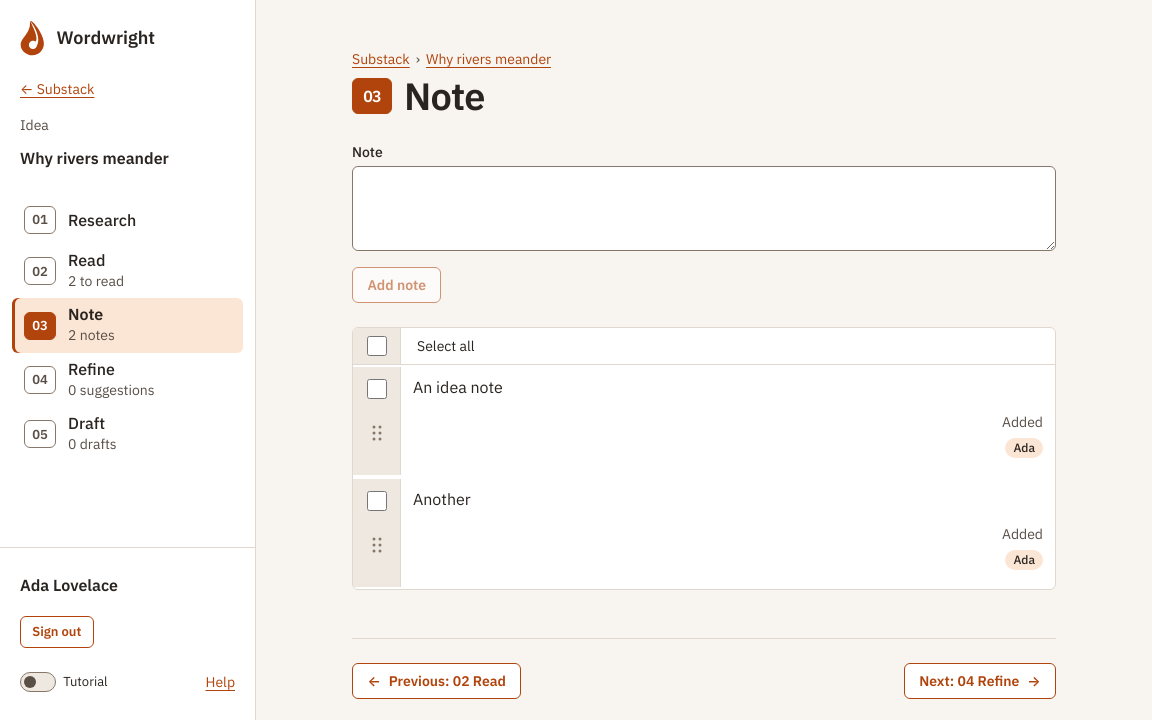
Test: reading page › moves notes from an idea to the publication, another idea or a new idea
Click the checkbox named "Select note “An idea note" at (376, 389), box [366,379,386,399]
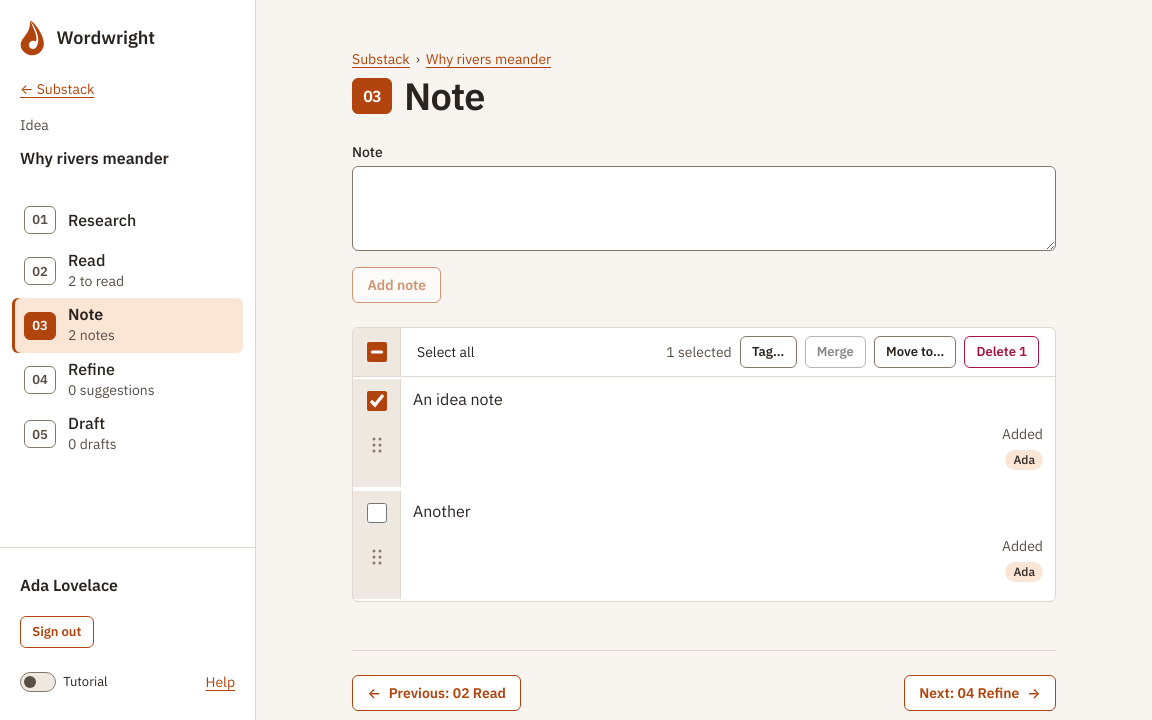
Click the button "Move to…" at (915, 352), box [874,336,956,368]
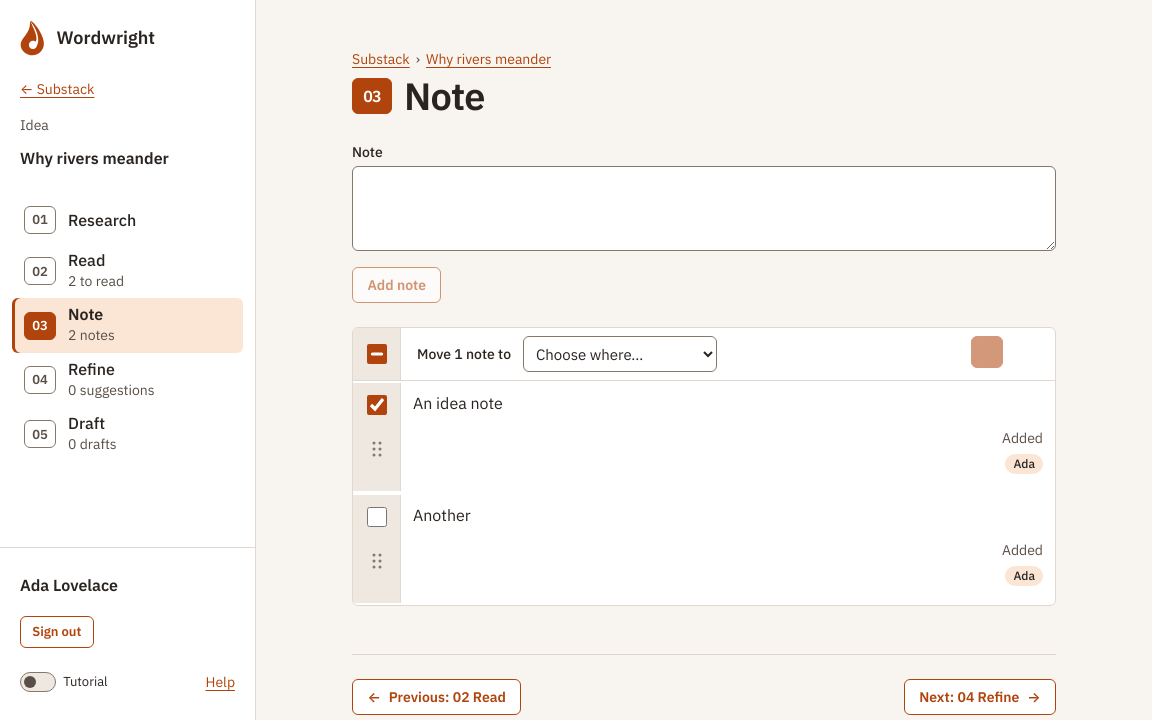
Select "The publication’s notes" in the dropdown labelled "Move 1 note to" at (620, 354), box [523,336,717,372]
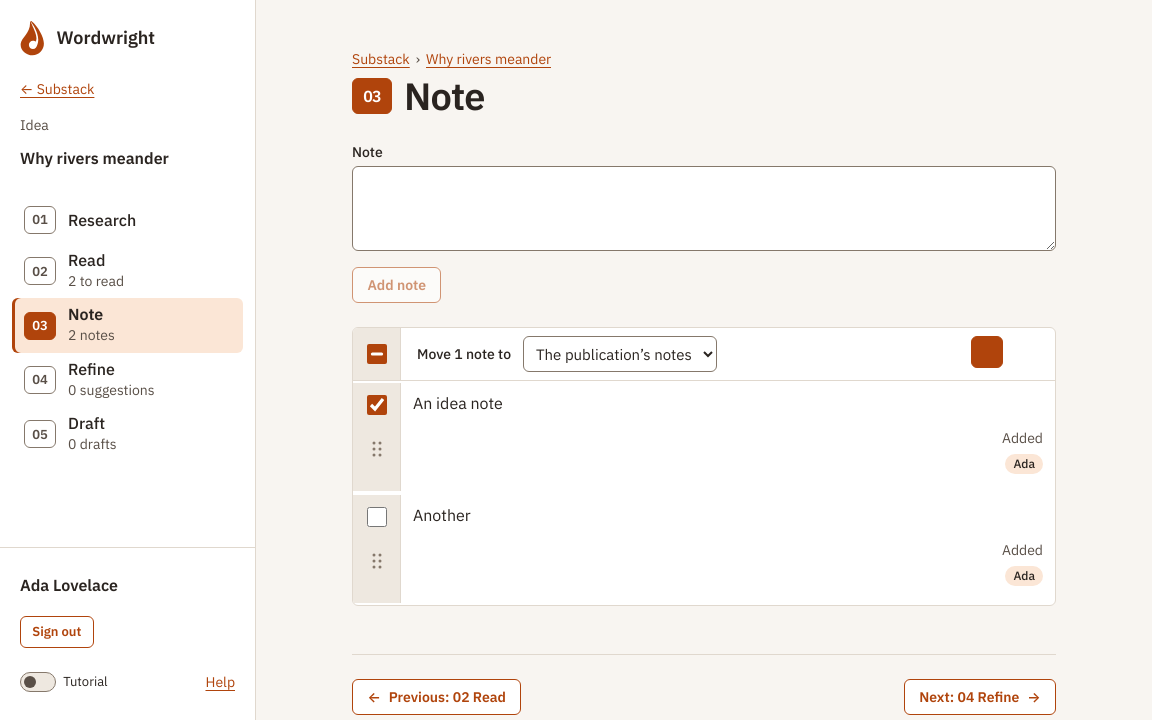
Click the button named "Move 1 note" at (987, 352), box [971,336,1003,368]
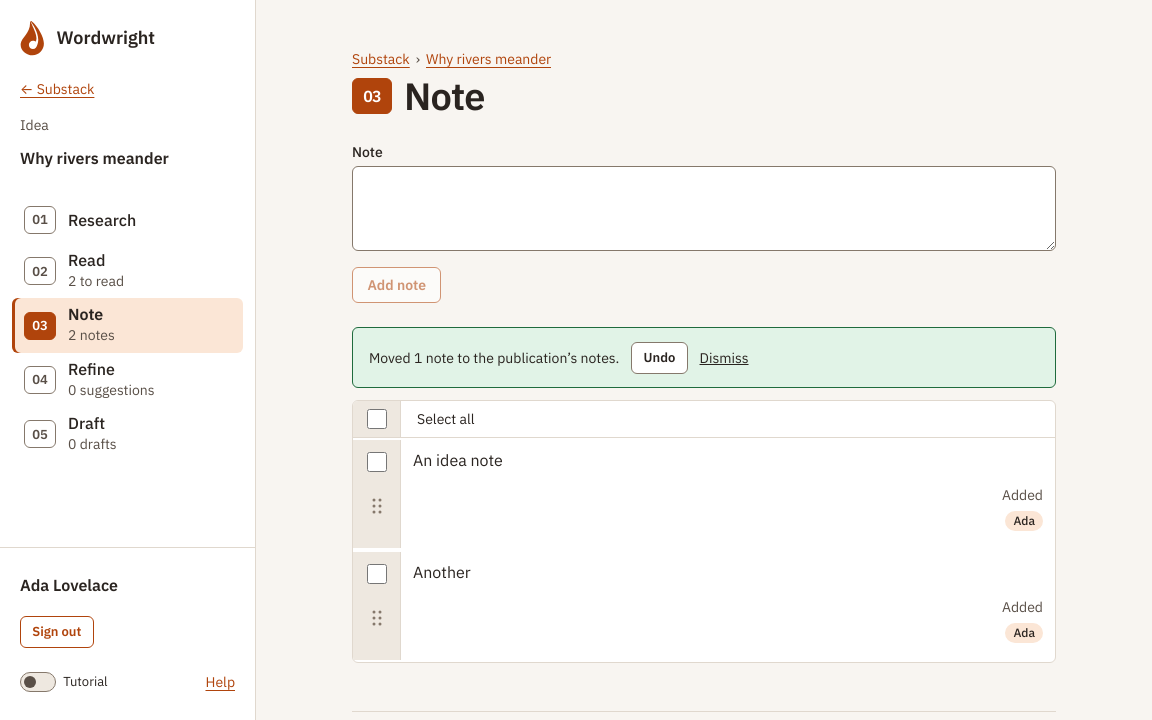
Now the text "Moved 1 note to the publication’s notes." is shown, box [369,348,619,368]
